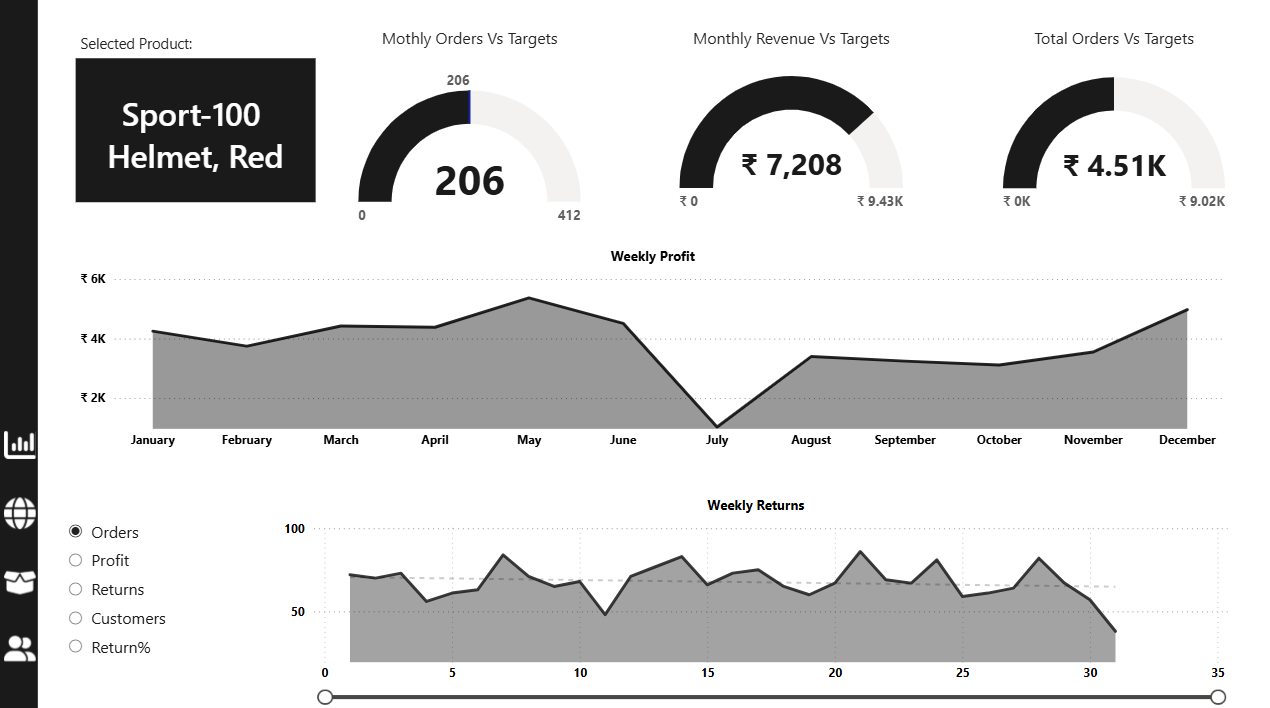

This screenshot's page, from the dashboard's own definition file:
{"tool":"powerbi","page":{"name":"Product Details ","canvas":[1280,720],"ordinal":3},"visuals":[{"type":"shape","box":[0,0,38.1,719],"z":0},{"type":"actionButton","box":[0,431.7,40,45.2],"z":0,"group":"g1"},{"type":"gauge","title":"Mothly Orders Vs Targets","fields":{"Y":["Measure Table.Total Orders"],"TargetValue":["Measure Table.Target Orders"]},"box":[355.8,32.1,234.4,219],"z":1000},{"type":"actionButton","box":[0,569.8,40,45.2],"z":1000,"group":"g1"},{"type":"gauge","title":"Monthly Revenue Vs Targets","fields":{"Y":["Measure Table.Total Revenue sumx"],"MaxValue":["Measure Table.Revenue Target"]},"box":[680.4,32.5,235.5,218.2],"z":2000},{"type":"actionButton","box":[0,500.8,40,45.2],"z":2000,"group":"g1"},{"type":"gauge","title":"Total Orders Vs Targets","fields":{"Y":["Measure Table.Total Profit"]},"box":[1006.1,32.5,233.8,219.9],"z":3000},{"type":"lineChart","title":"Weekly Profit","fields":{"Y":["Measure Table.Total Profit"],"Category":["Calendar Lookup.Date.Variation.Date Hierarchy.Year","Calendar Lookup.Date.Variation.Date Hierarchy.Quarter","Calendar Lookup.Date.Variation.Date Hierarchy.Month","Calendar Lookup.Date.Variation.Date Hierarchy.Day"]},"box":[76.2,253.8,1163.8,213.8],"z":4000},{"type":"lineChart","title":"Weekly Returns","fields":{"Y":["Measure Table.Total Orders"],"Category":["Calendar Lookup.Date.Variation.Date Hierarchy.Year","Calendar Lookup.Date.Variation.Date Hierarchy.Quarter","Calendar Lookup.Date.Variation.Date Hierarchy.Month","Calendar Lookup.Date.Variation.Date Hierarchy.Day"]},"box":[281.2,505,961.2,213.8],"z":5000},{"type":"card","fields":{"Values":["Min(Product Lookup.ProductName)"]},"box":[76.7,63.3,241.7,145],"z":6000},{"type":"textbox","box":[76.7,33.3,258.3,30],"z":7000},{"type":"actionButton","box":[0,638.3,55,40],"z":8000},{"type":"group","id":"g1","title":"Group 1","box":[0,431.7,40,183.3],"z":9000},{"type":"slicer","fields":{"Values":["Parameter.Parameter"]},"box":[55,521.2,226.2,183.8],"z":10000}]}

Visuals, with their boxes on the page's 1280x720 design canvas (x1, y1, x2, y2). These are canvas units, not pixel positions in the 1270x708 screenshot, which may show the page scaled, cropped or inside an application window:
shape: bbox(0, 0, 38, 719)
actionButton: bbox(0, 432, 40, 477)
"Mothly Orders Vs Targets" gauge: bbox(356, 32, 590, 251)
actionButton: bbox(0, 570, 40, 615)
"Monthly Revenue Vs Targets" gauge: bbox(680, 32, 916, 251)
actionButton: bbox(0, 501, 40, 546)
"Total Orders Vs Targets" gauge: bbox(1006, 32, 1240, 252)
"Weekly Profit" lineChart: bbox(76, 254, 1240, 468)
"Weekly Returns" lineChart: bbox(281, 505, 1242, 719)
card - Min(Product Lookup.ProductName): bbox(77, 63, 318, 208)
textbox: bbox(77, 33, 335, 63)
actionButton: bbox(0, 638, 55, 678)
"Group 1" group: bbox(0, 432, 40, 615)
slicer - Parameter.Parameter: bbox(55, 521, 281, 705)
